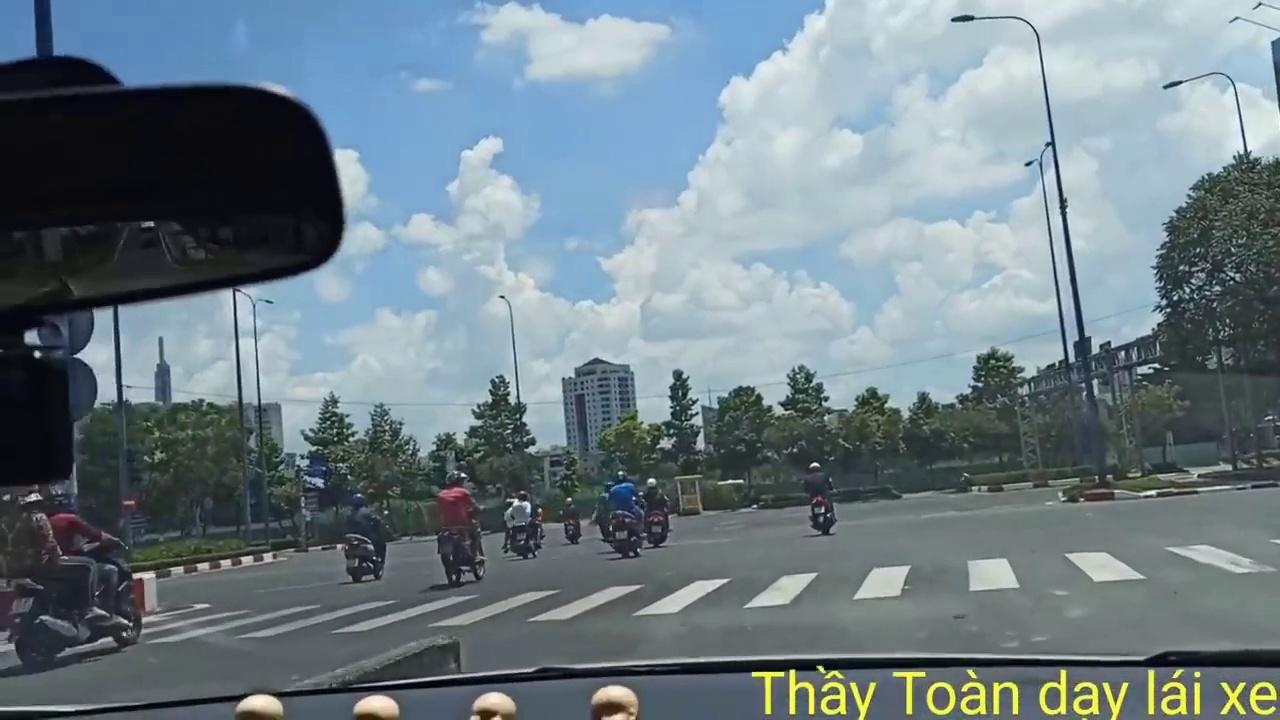Cấm đi ngược chiều: (118, 491, 139, 516)
